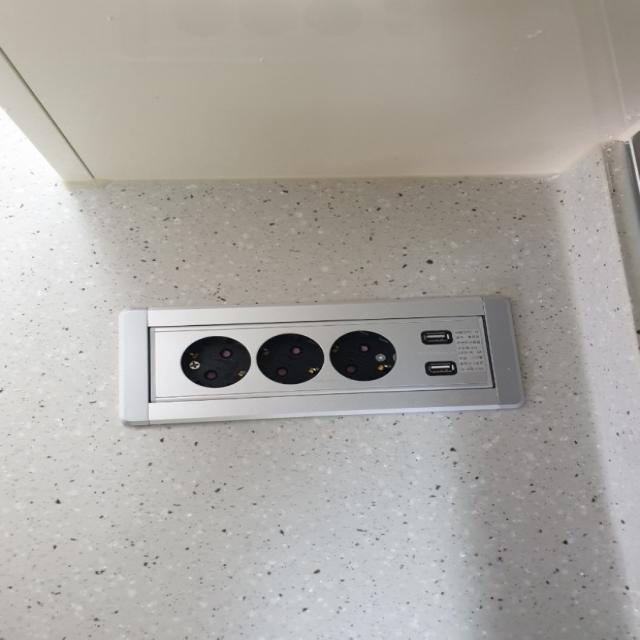typeb: (97, 286, 560, 451)
